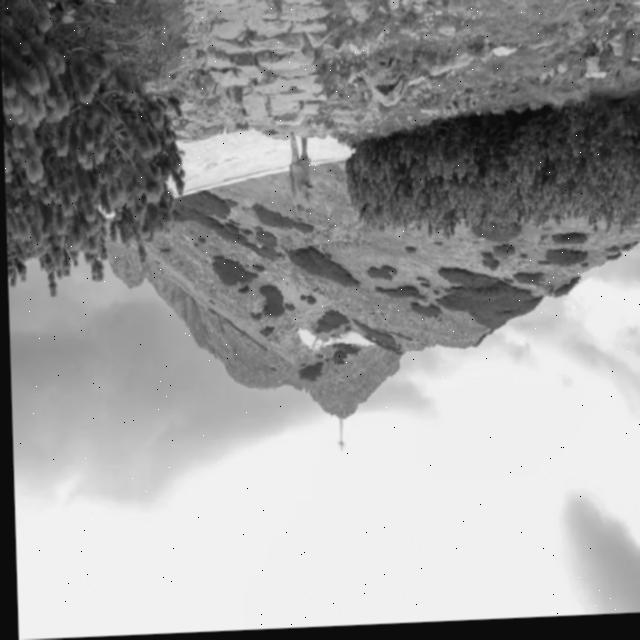Giewont: (269, 319, 417, 512)
Maly giewont: (84, 226, 179, 353)
